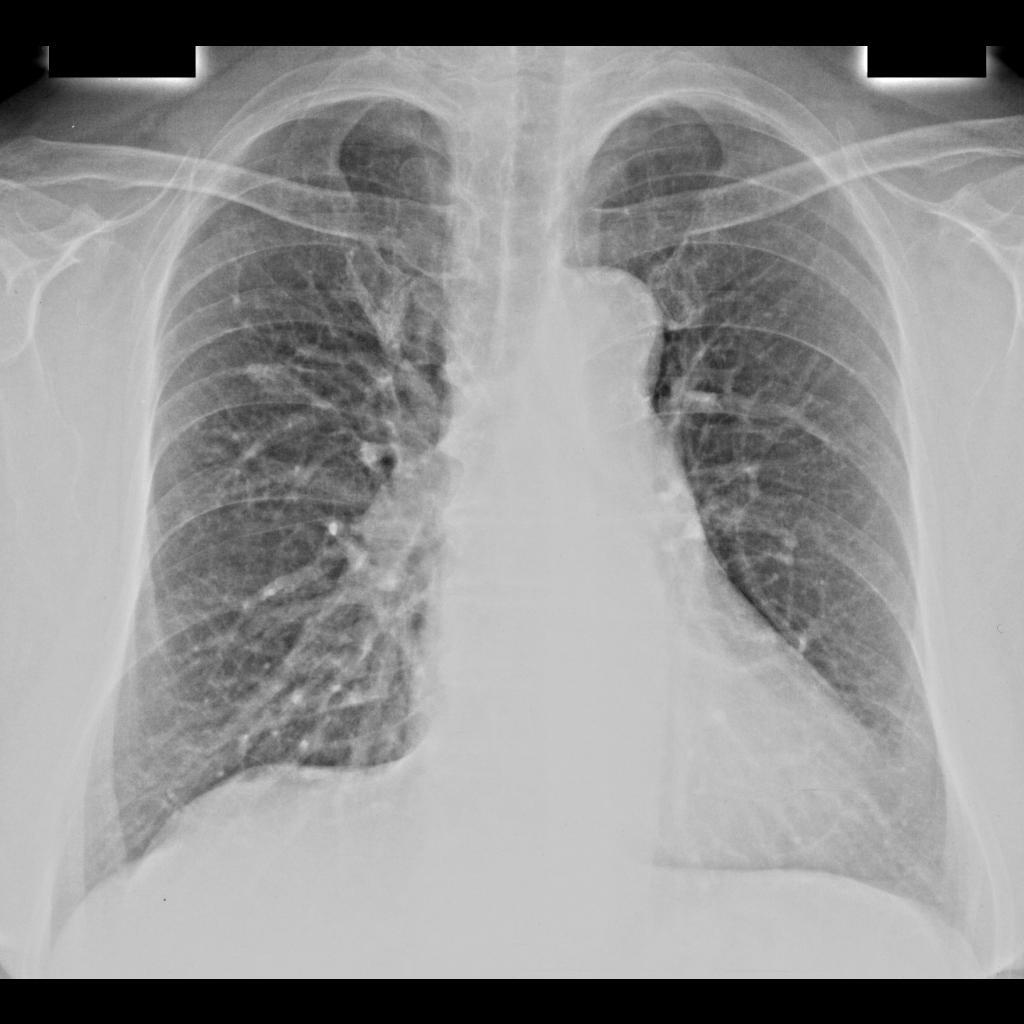Nodule: (243, 346, 299, 402)
